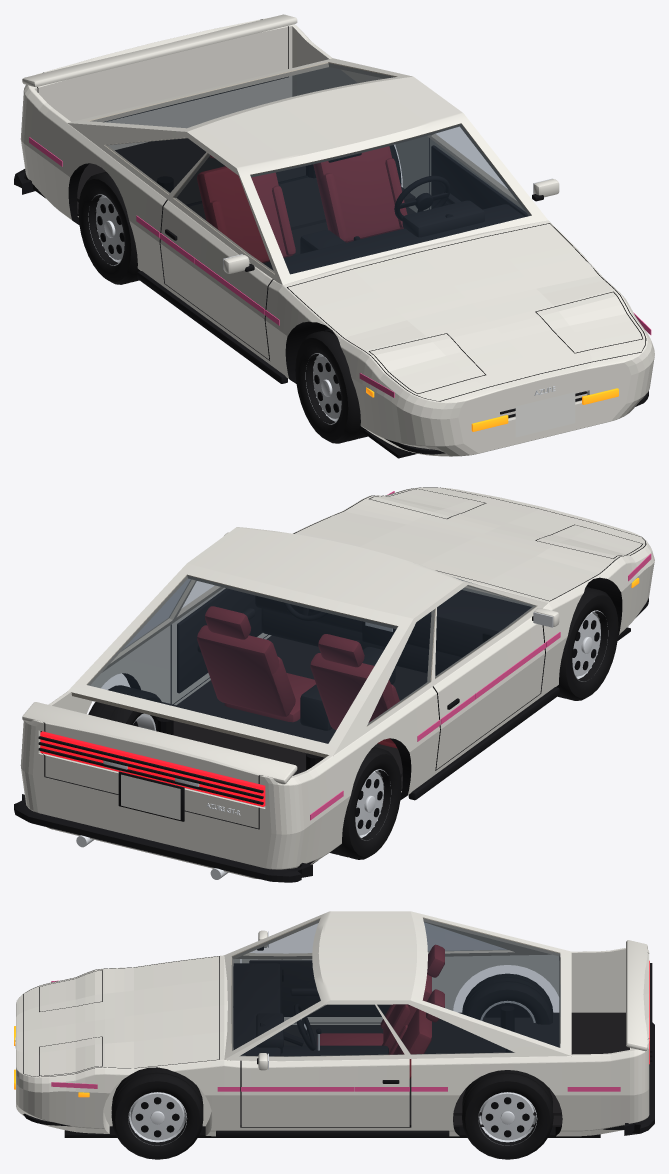
The model's file is azure-gtr.glb.
3 renders of one model, top to bottom at view 1: azimuth 30°, elevation 25°; view 2: azimuth 150°, elevation 25°; view 3: azimuth 270°, elevation 25°, orthographic. The views are drawn at different scales.
Visible parts, largest first — view 1: Body, Hood, Windows, Interior, Tailgate, Door_FR, Glass_Rear, Glass_Door_F_R, Tire_FR, Popup_R, Popup_L, Tire_RR (+8 smaller); view 2: Body, Glass_Rear, Interior, Tailgate, Hood, Door_FR, Glass_Door_F_R, Tire_RR, Tire_FR, Windows, Lights, DoorCard_FL (+8 smaller); view 3: Body, Interior, Hood, Windows, Glass_Rear, Door_FL, Tailgate, Glass_Door_F_L, Tire_FL, Tire_RL, DoorCard_FR, Tire_RR (+8 smaller).
Boxes of the visible parts, box(x1,y1,x2,y2) form: Body: box(14, 17, 654, 456); Hood: box(287, 223, 645, 401); Windows: box(105, 124, 530, 273); Interior: box(77, 138, 524, 274); Tailgate: box(22, 14, 412, 131); Door_FR: box(159, 200, 273, 359); Glass_Rear: box(92, 63, 392, 127); Glass_Door_F_R: box(173, 153, 273, 272); Tire_FR: box(295, 328, 367, 443); Popup_R: box(370, 334, 484, 393); Popup_L: box(536, 292, 642, 353); Tire_RR: box(78, 172, 140, 284); Body: box(14, 487, 654, 882); Glass_Rear: box(87, 575, 397, 743); Interior: box(156, 590, 531, 804); Tailgate: box(22, 563, 413, 828); Hood: box(294, 487, 645, 601); Door_FR: box(433, 608, 559, 769); Glass_Door_F_R: box(435, 585, 535, 678); Tire_RR: box(329, 747, 401, 859); Tire_FR: box(556, 587, 618, 700); Windows: box(122, 578, 471, 725); Lights: box(40, 578, 639, 806); DoorCard_FL: box(177, 588, 262, 693); Body: box(15, 911, 654, 1137); Interior: box(233, 944, 629, 1126); Hood: box(23, 956, 219, 1076); Windows: box(231, 919, 514, 1054); Glass_Rear: box(423, 918, 560, 1047); Door_FL: box(241, 1053, 409, 1126); Tailgate: box(410, 911, 649, 1056); Glass_Door_F_L: box(240, 1005, 403, 1056); Tire_FL: box(111, 1067, 203, 1159); Tire_RL: box(462, 1070, 553, 1159); DoorCard_FR: box(249, 960, 390, 1016); Tire_RR: box(462, 973, 552, 1024).
Size of the model in its own units: 2.23 by 1.23 by 4.61.
